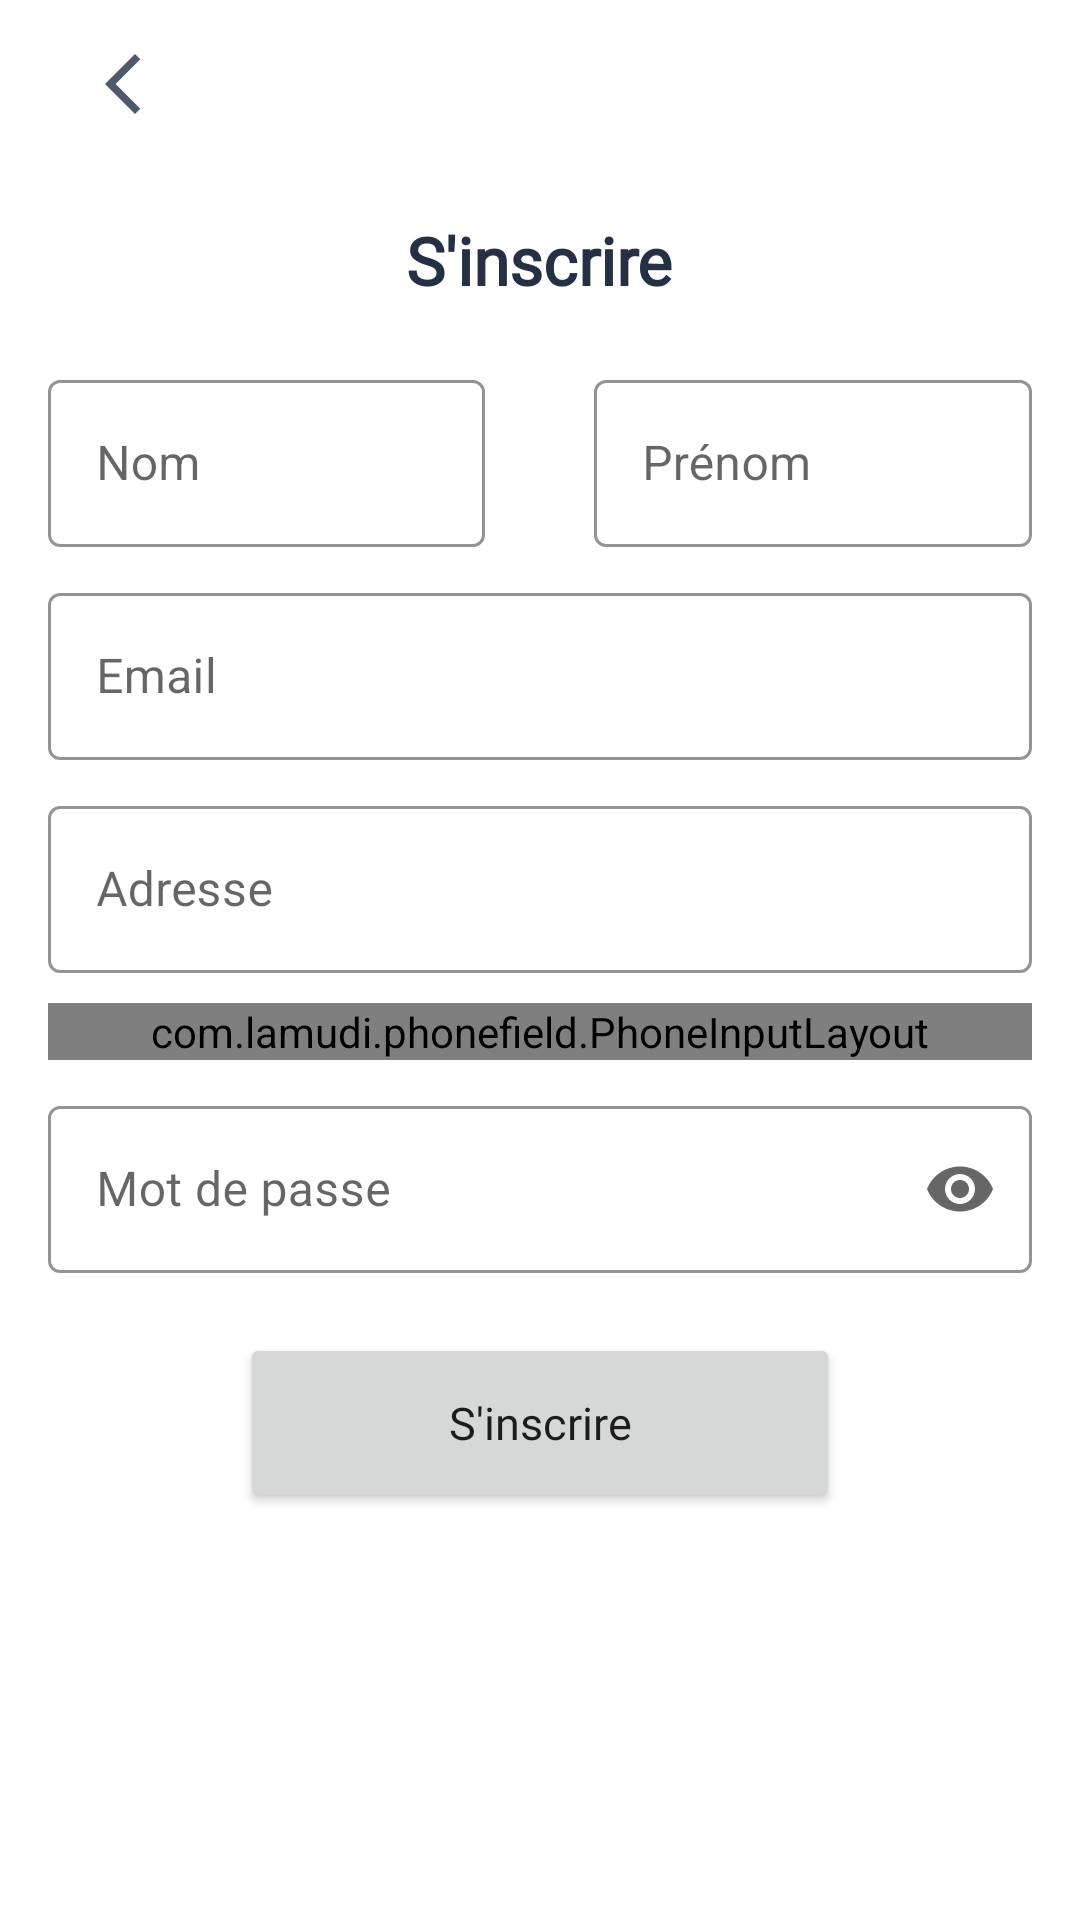

Locate icon controls on the screen. Image size 1080px×1920px, boxes as [x1, y1, x2, y2].
back: [105, 54, 140, 114]
